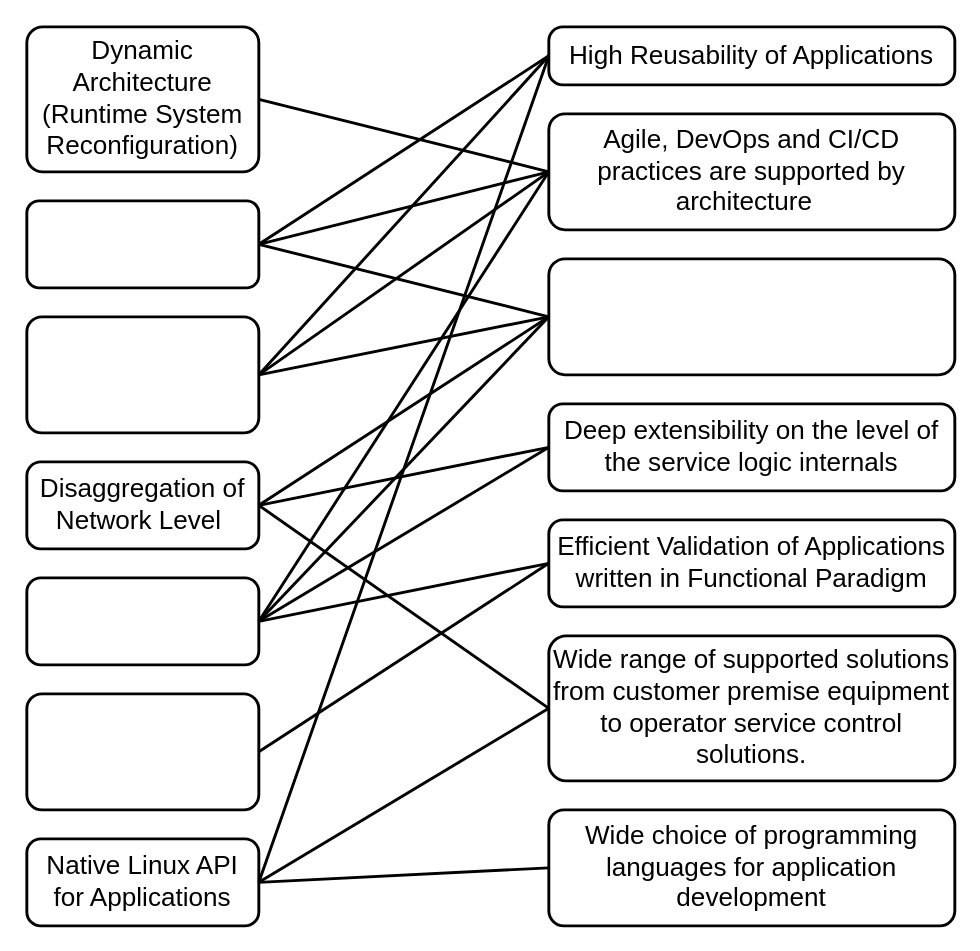
Some shapes in this 980 by 951 pixel diagram are drawn without their labels. Each missing label, with the centre of its shape:
Application Logic Split from Session State Data: point (142, 751)
Easyness of design and implementation of multiprotocol solutions: point (751, 316)
Event-Driven Design: point (142, 244)
Implicit Design of Application FSM-s: point (142, 621)
Protocol Agnostic Network Application Server: point (142, 374)
